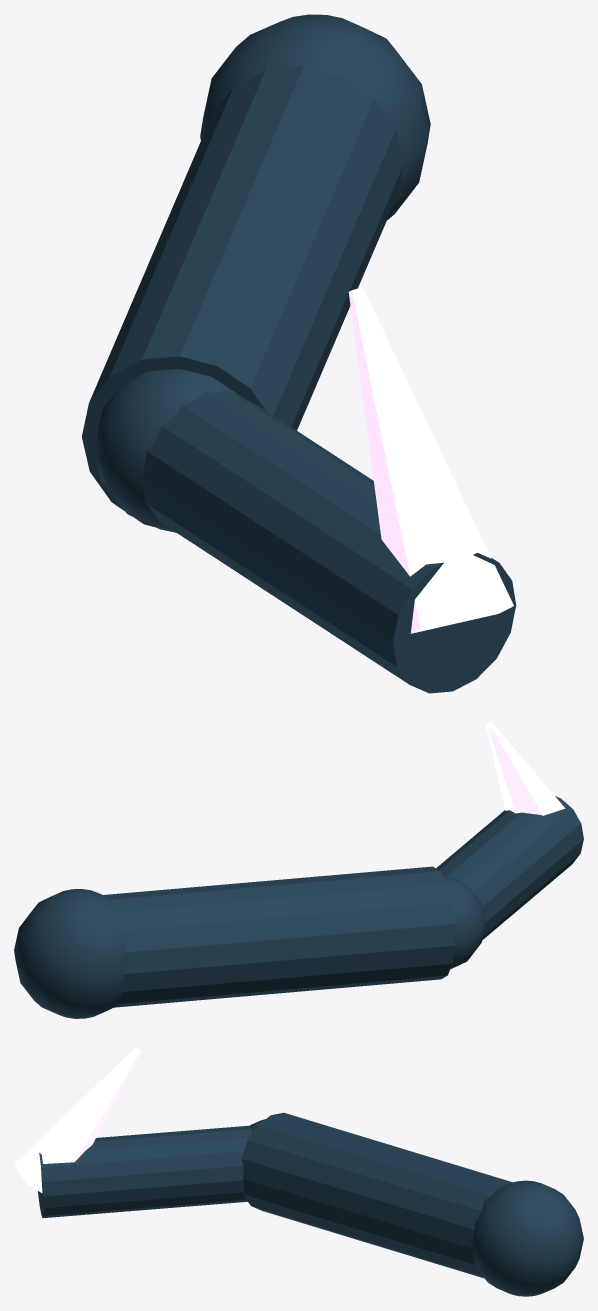
The model's file is SM_Keeper_Nun_Armm10.fbx.
The picture shows the model from 3 angles, top to bottom: view 1: azimuth 30°, elevation 25°; view 2: azimuth 150°, elevation 25°; view 3: azimuth 270°, elevation 25°; orthographic projection. The views are drawn at different scales.
Visible parts, largest first — view 1: SM_Keeper_Nun_Armm10; view 2: SM_Keeper_Nun_Armm10; view 3: SM_Keeper_Nun_Armm10.
Boxes of the visible parts, x1=… form: SM_Keeper_Nun_Armm10: x1=82, y1=14, x2=516, y2=693; SM_Keeper_Nun_Armm10: x1=14, y1=722, x2=583, y2=1018; SM_Keeper_Nun_Armm10: x1=14, y1=1047, x2=583, y2=1296.
Bounding box in the file's own units: 5.6 × 3.22 × 9.8.
